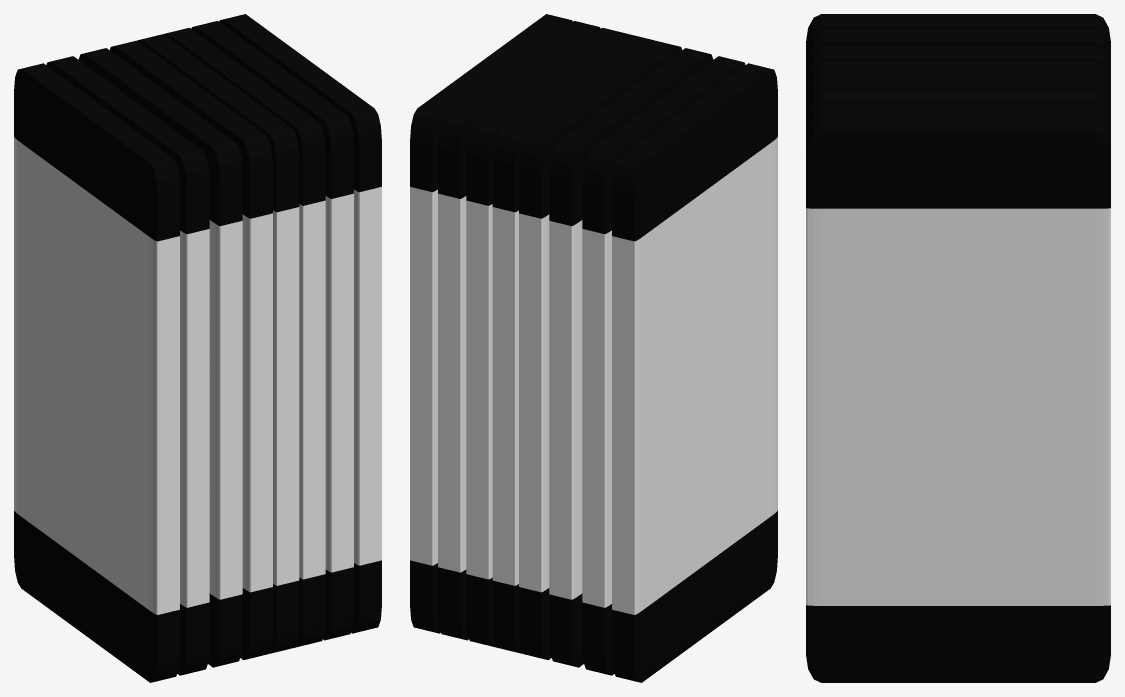
File: games1.obj
3 views of the same model, side by side, from view 1: azimuth 30°, elevation 25°; view 2: azimuth 150°, elevation 25°; view 3: azimuth 270°, elevation 25° (orthographic). The views are drawn at different scales.
Parts seen in each view (by area): view 1: Cube.026; view 2: Cube.026; view 3: Cube.026.
Part boxes in pixels (<box>): Cube.026: <box>14,14,381,682</box>; Cube.026: <box>410,14,777,682</box>; Cube.026: <box>806,14,1110,682</box>.
Size of the model in its own units: 0.0914 by 0.2 by 0.1.
Materials: 1 (1 with a texture image).
